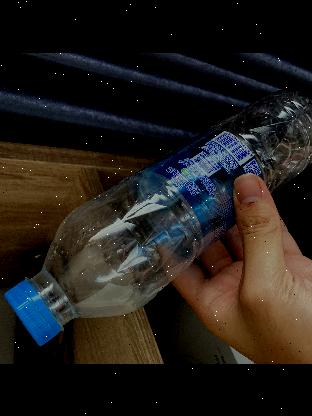Plastic Bottle: (0, 85, 312, 347)
